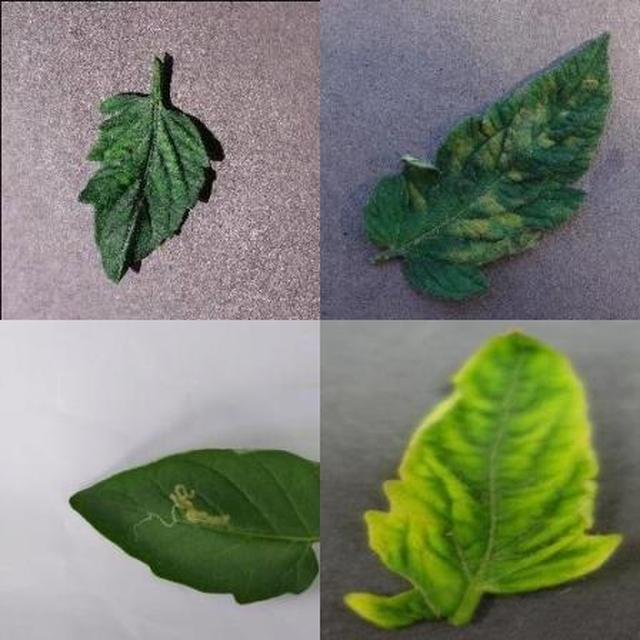Mosaic Virus Leaf: (190, 229, 640, 640)
